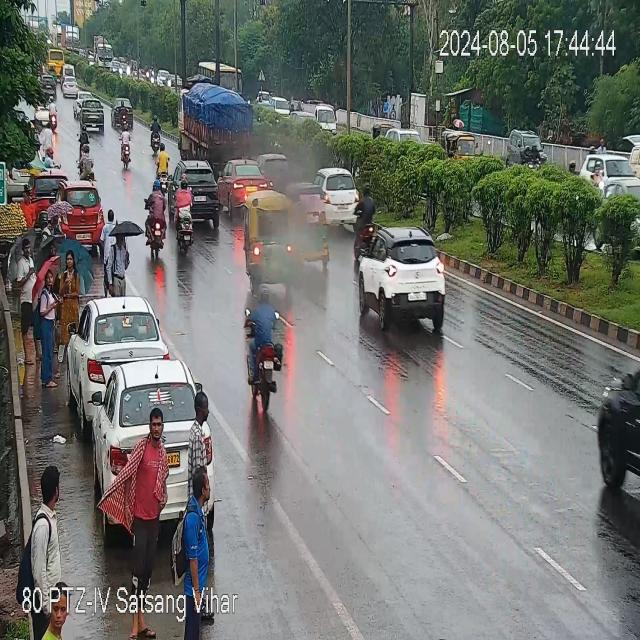2-wheelers: (248, 284, 286, 413), (142, 179, 170, 256), (352, 185, 380, 249), (172, 182, 196, 248), (118, 123, 134, 169), (156, 139, 170, 191), (145, 119, 164, 156), (521, 141, 545, 167), (78, 143, 91, 182), (48, 98, 59, 129), (592, 162, 602, 189), (78, 126, 92, 145), (46, 147, 59, 165), (121, 97, 127, 132)
auto: (244, 190, 325, 278), (441, 133, 494, 167), (373, 118, 391, 136)
bus: (203, 59, 241, 88)
car: (85, 356, 219, 479), (64, 297, 171, 404), (357, 227, 464, 330), (597, 332, 640, 496), (584, 154, 640, 215), (58, 185, 109, 240), (171, 160, 216, 218), (314, 170, 364, 220), (219, 160, 269, 198), (504, 128, 527, 166), (81, 102, 109, 132), (41, 71, 56, 97), (62, 76, 80, 96), (110, 95, 120, 128), (72, 92, 82, 115)
pedestrian: (130, 403, 171, 549), (179, 474, 217, 596), (176, 391, 215, 497), (27, 461, 64, 568), (34, 260, 58, 382), (102, 213, 133, 291), (14, 237, 36, 336), (63, 246, 80, 300), (23, 187, 37, 224)
truck: (180, 88, 261, 162)
